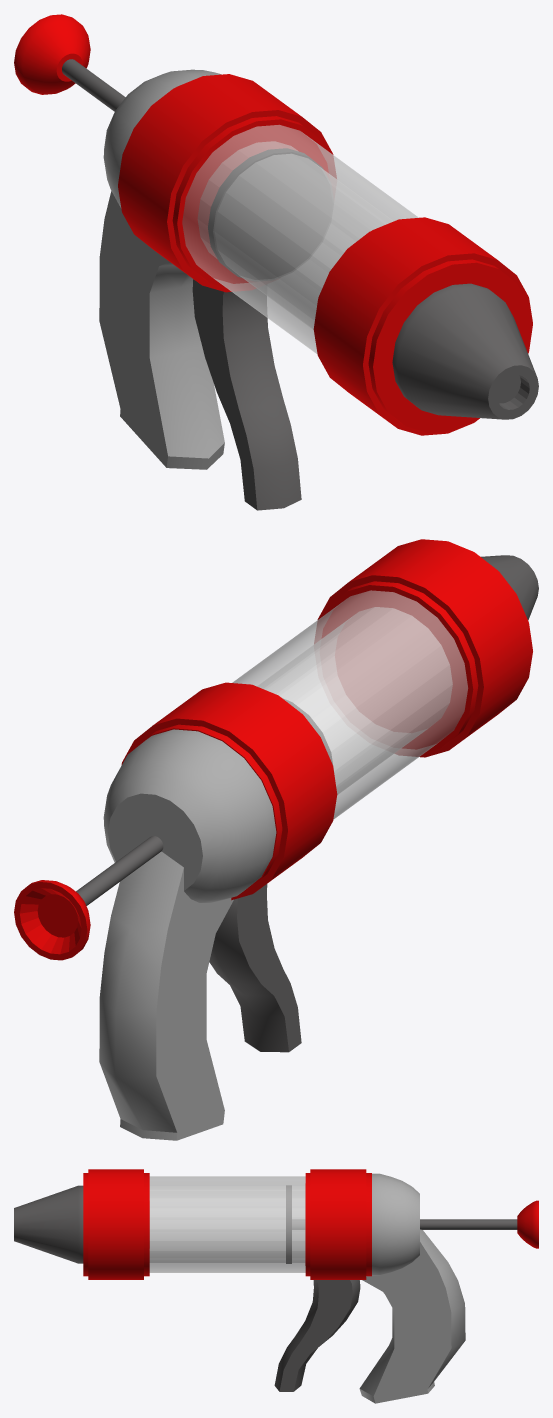
File: Gun_02.fbx
3 views of the same model, one above another, from view 1: azimuth 30°, elevation 25°; view 2: azimuth 150°, elevation 25°; view 3: azimuth 270°, elevation 25° (orthographic). The views are drawn at different scales.
Visible parts, largest first — view 1: pCube8; view 2: pCube8; view 3: pCube8.
Boxes of the visible parts, x1=… form: pCube8: x1=14, y1=14, x2=538, y2=510; pCube8: x1=14, y1=539, x2=538, y2=1140; pCube8: x1=14, y1=1169, x2=538, y2=1403.
Size of the model in its own units: 29.8 by 65.35 by 140.
